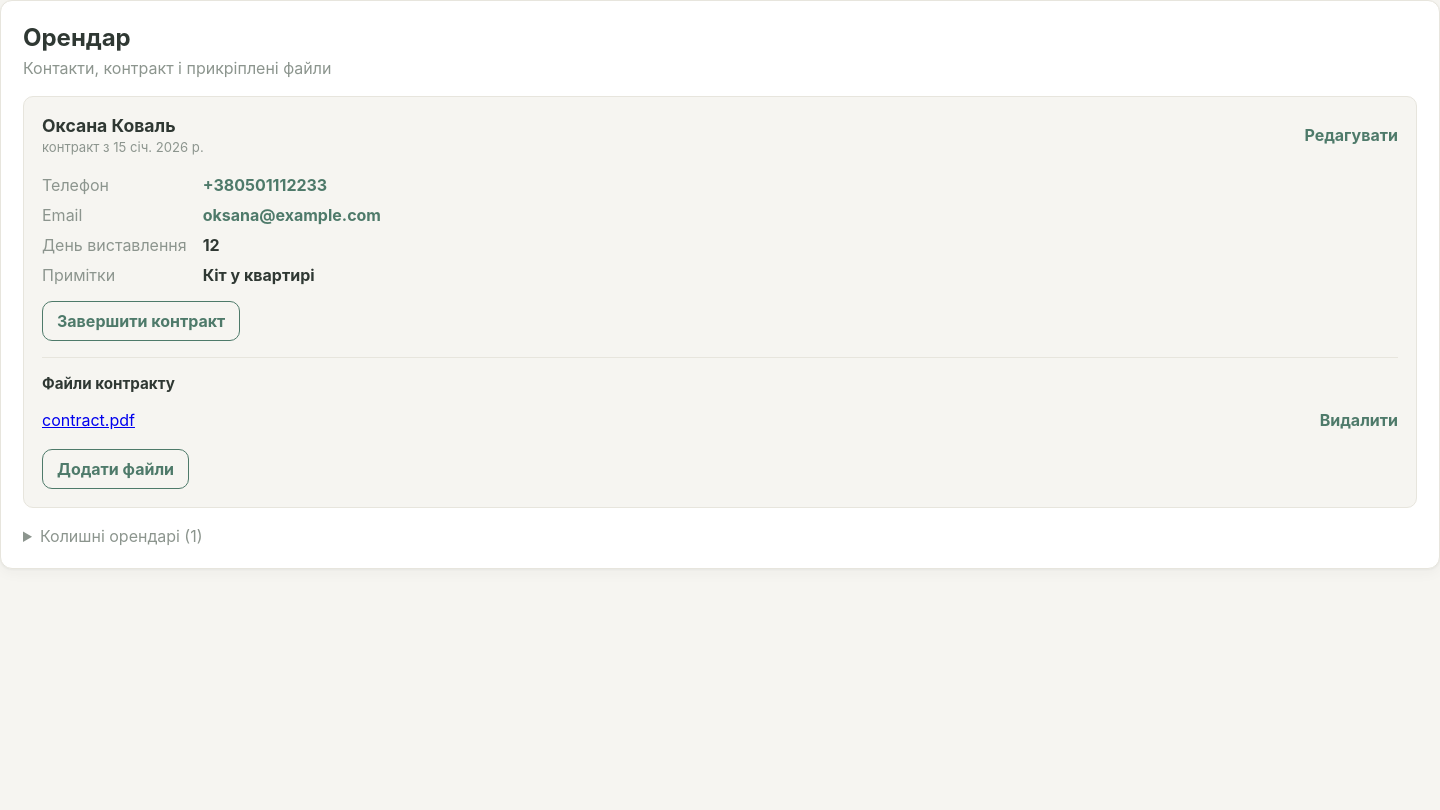
TenantSection › uses the current local date when the end-contract form opens
This screenshot has width=1440, height=810.
Click the button "Завершити контракт" at (141, 321), box x1=42 y1=301 x2=240 y2=341
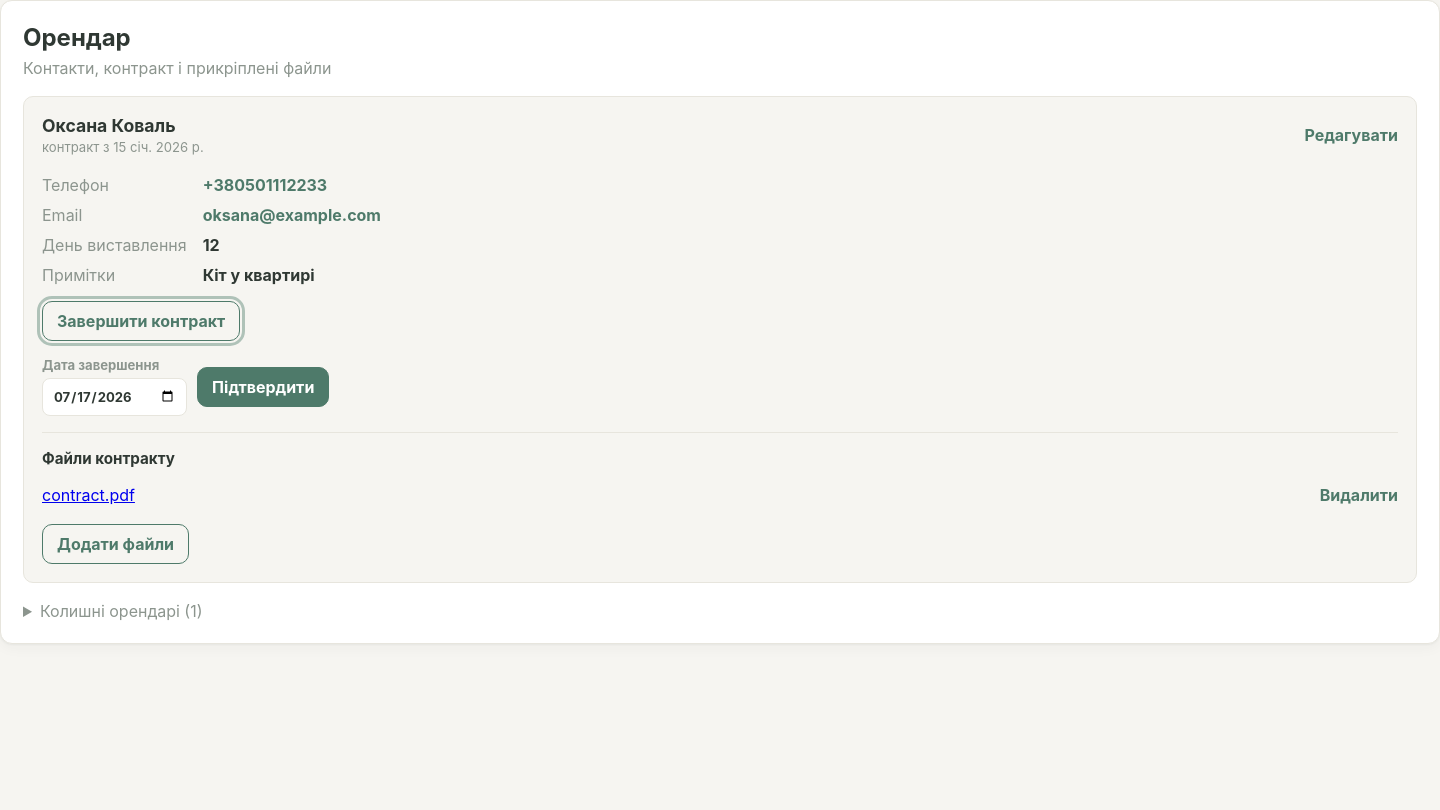
Now the date field named "Дата завершення контракту" holds "2026-07-17", box x1=42 y1=378 x2=187 y2=416
